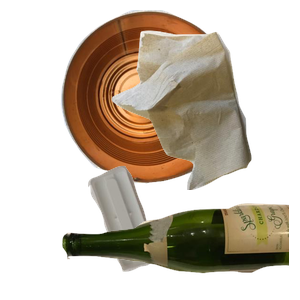glass: (60, 201, 300, 300)
metal: (58, 10, 289, 186)
plastic: (85, 163, 235, 300)
trash: (109, 28, 300, 208)
